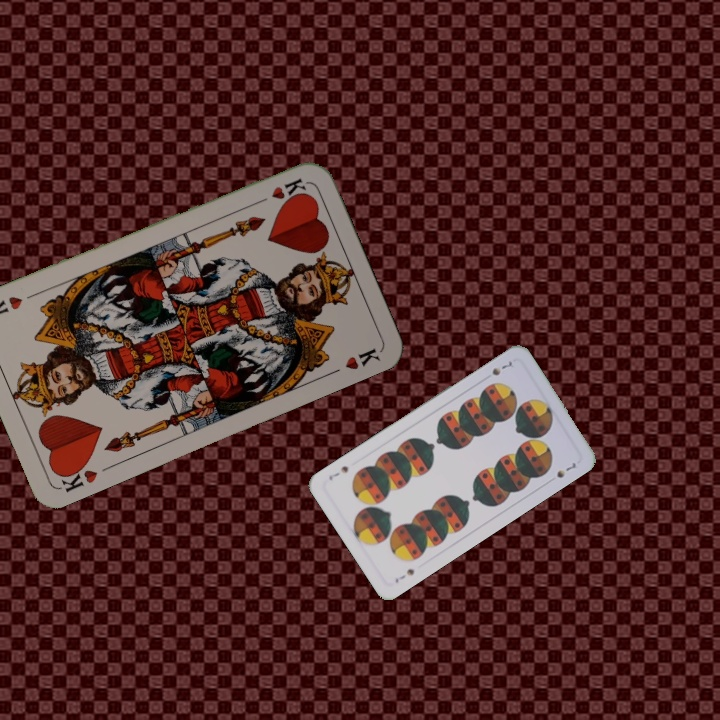HK: (251, 174, 308, 207), (53, 458, 100, 495)
S7: (391, 564, 417, 586), (488, 357, 515, 378)
